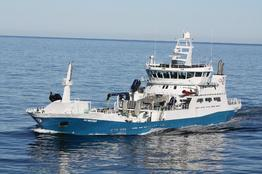otherboat: (23, 26, 245, 139)
